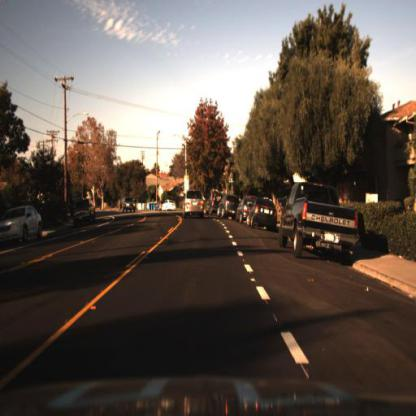car: (277, 176, 363, 262), (1, 207, 44, 249), (246, 196, 279, 231), (181, 190, 204, 221), (74, 199, 95, 226), (218, 193, 239, 220), (119, 195, 136, 218), (161, 198, 178, 214), (152, 200, 163, 213)
